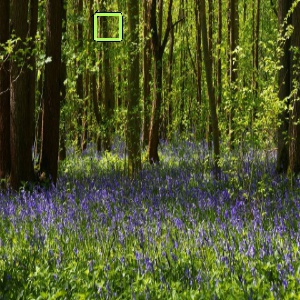square: (90, 9, 125, 43)
